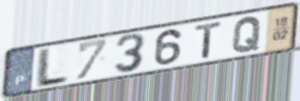3: (113, 32, 149, 74)
6: (154, 28, 185, 67)
7: (76, 37, 109, 82)
L: (33, 46, 71, 90)
Q: (230, 15, 264, 55)
T: (193, 19, 225, 60)
